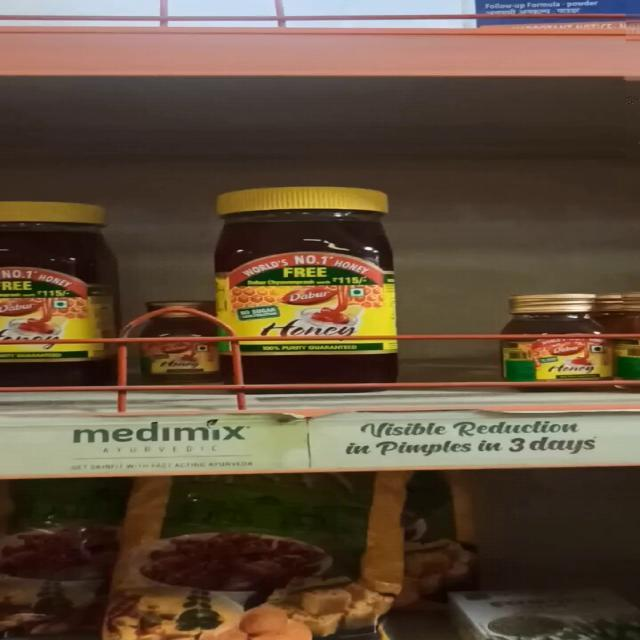Dabur Honey: (204, 180, 406, 395), (498, 292, 616, 398)
